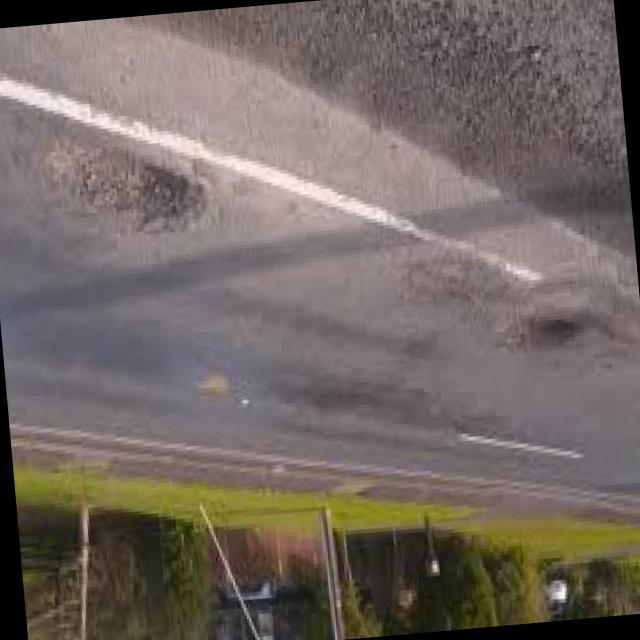pothole: (64, 132, 214, 258), (504, 294, 588, 362)
